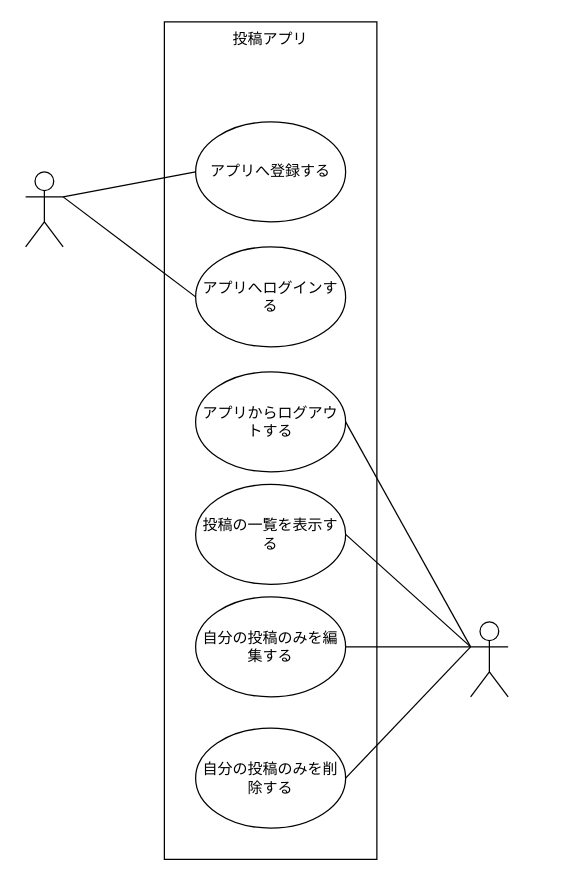
The diagram is 578 pixels wide and 881 high, and some of its shapes have lost their labels. Each missing label, with the centre of its shape:
"ログインした利用者" belongs at point 488,659.
"訪問者" belongs at point 43,209.
